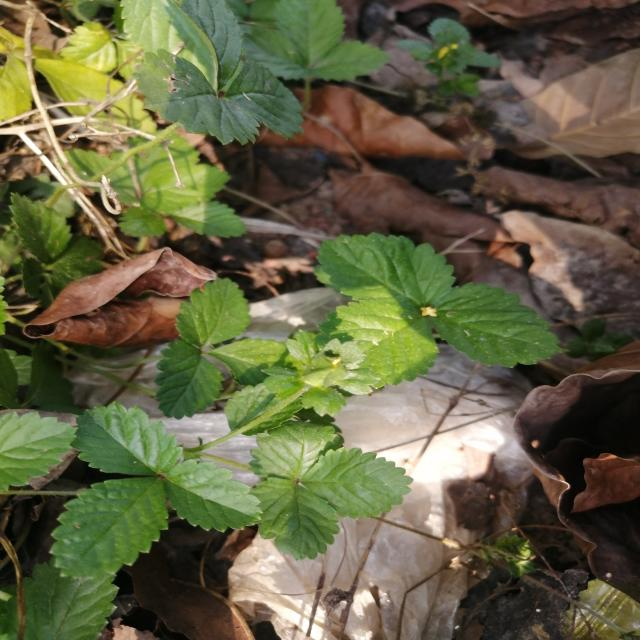Mock_strawberry: (32, 394, 276, 576), (311, 229, 550, 405)
